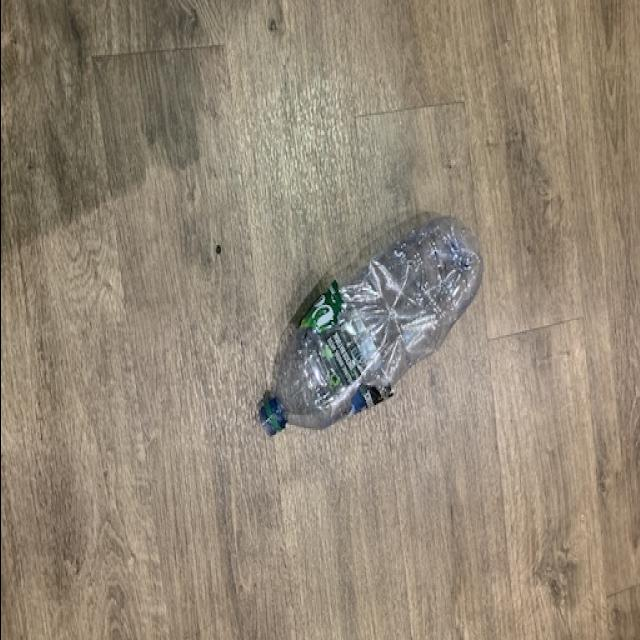PET: (252, 212, 484, 442)
